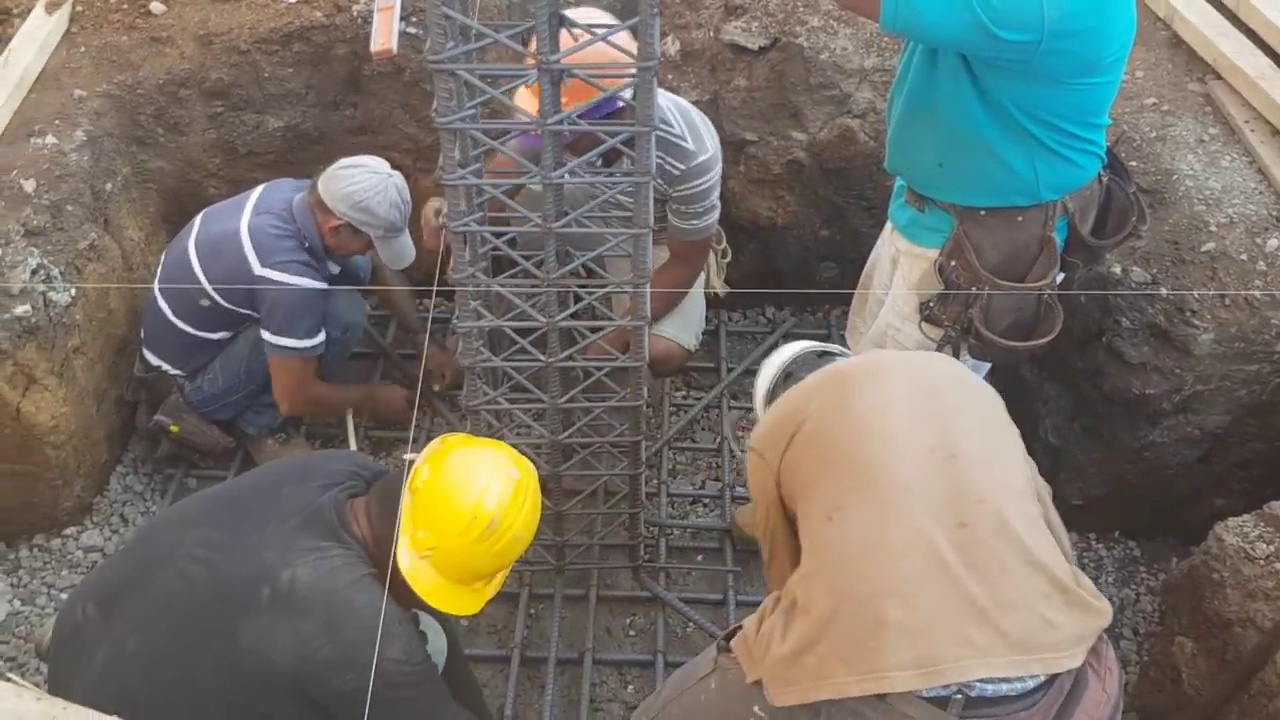helmet: (398, 436, 542, 614), (511, 2, 640, 119)
helmet-off: (305, 158, 428, 264)
helmet-on: (347, 430, 541, 626), (496, 29, 640, 164), (750, 342, 850, 423)
person: (688, 327, 1129, 720), (34, 426, 538, 713), (849, 1, 1143, 409), (479, 0, 724, 389), (146, 151, 448, 450)
